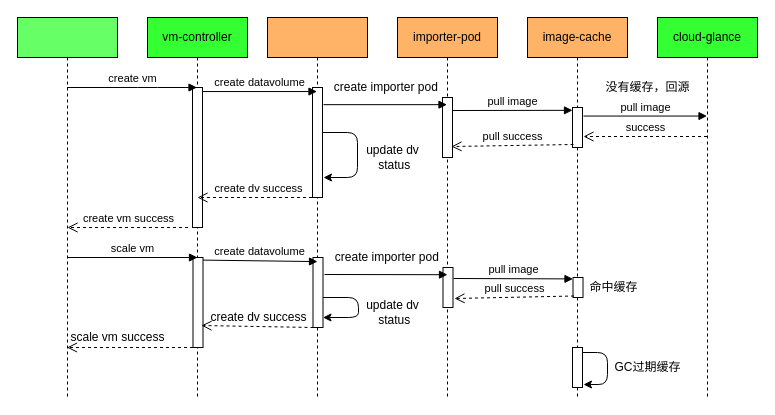
Some shapes in this 775 by 415 pixel diagram are drawn without their labels. Each missing label, with the box of its shape:
dv-controller: (266, 16, 368, 398)
edge-agent: (16, 16, 118, 398)
